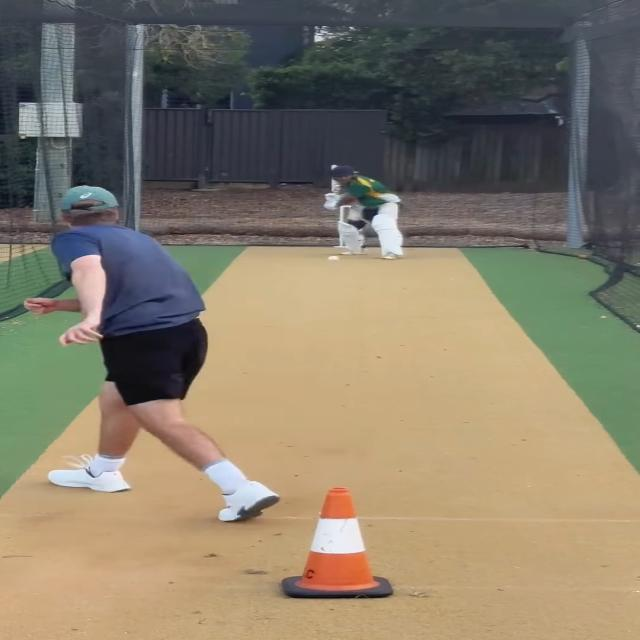Cricket ball: (325, 254, 344, 264)
